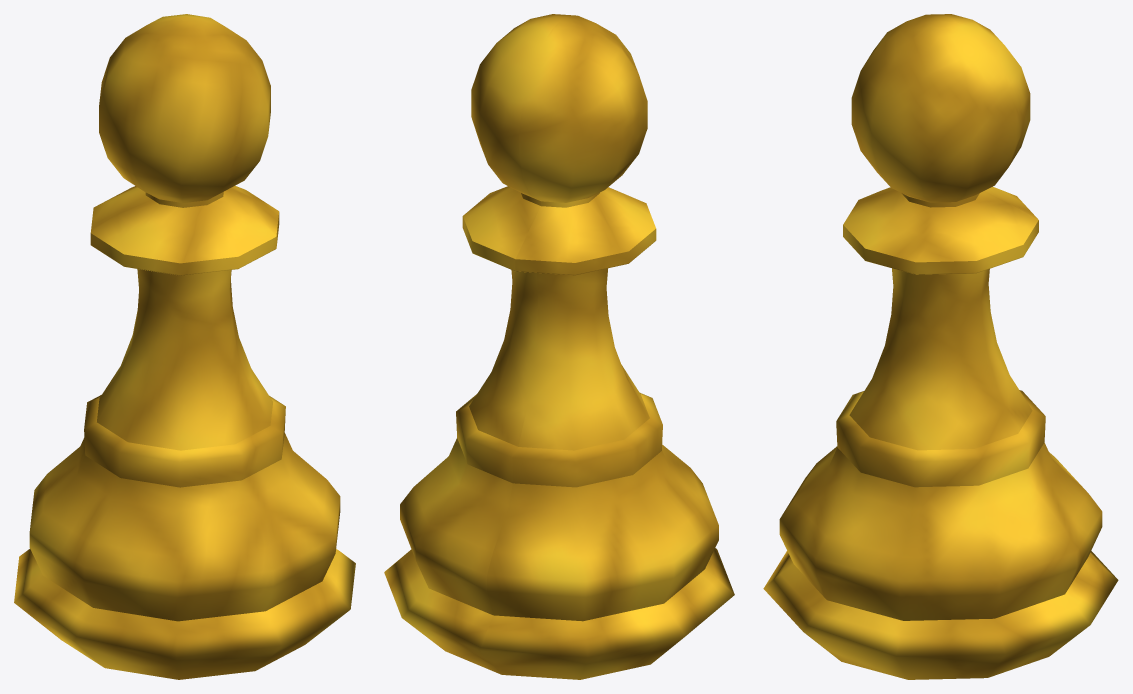
File: item-0-1.glb
3 views of the same model, side by side, from view 1: azimuth 30°, elevation 25°; view 2: azimuth 150°, elevation 25°; view 3: azimuth 270°, elevation 25° (orthographic).
Visible parts, largest first — view 1: BlackPawn; view 2: BlackPawn; view 3: BlackPawn.
Part boxes in pixels (x1,y1,x2,y2): BlackPawn: (14, 14, 355, 679); BlackPawn: (384, 14, 734, 679); BlackPawn: (763, 14, 1118, 679).
Bounding box in the file's own units: 0.0889 × 0.1731 × 0.0918.
Materials: 1 (1 with a texture image).
